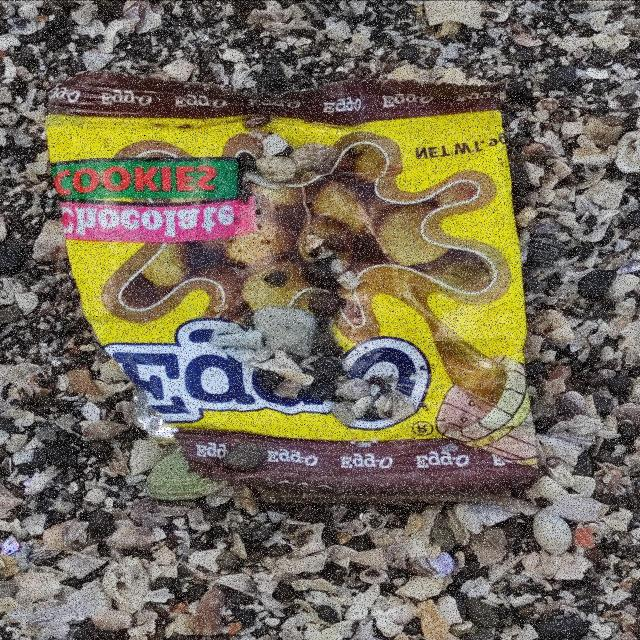plastic_waste: (45, 81, 534, 502)
